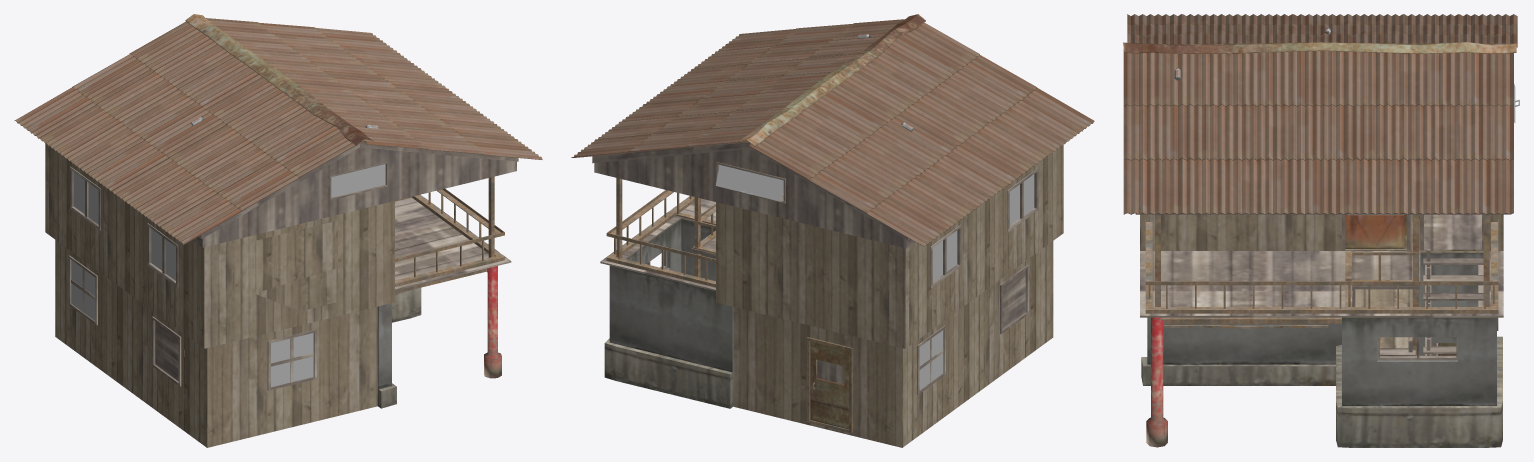
File: house.fbx
3 renders of one model, left to right at view 1: azimuth 30°, elevation 25°; view 2: azimuth 150°, elevation 25°; view 3: azimuth 270°, elevation 25°, orthographic. The views are drawn at different scales.
Visible parts, largest first — view 1: WoodWall, polySurface472, polySurface473, polySurface565, polySurface79, polySurface98, polySurface88, polySurface74, polySurface111, polySurface99, polySurface86, polySurface112 (+49 smaller); view 2: WoodWall, polySurface563, polySurface472, polySurface586, polySurface565, polySurface120, polySurface79, polySurface74, polySurface82, polySurface88, polySurface98, polySurface111 (+48 smaller); view 3: polySurface563, polySurface473, WoodWall, polySurface586, polySurface587, polySurface565, polySurface62, polySurface68, polySurface83, polySurface63, polySurface61, polySurface89 (+54 smaller).
Part boxes in pixels (box(x1,y1,x2,y2)): WoodWall: box(45, 143, 394, 447); polySurface472: box(192, 147, 516, 247); polySurface473: box(395, 194, 511, 290); polySurface565: box(185, 14, 373, 145); polySurface79: box(14, 87, 96, 138); polySurface98: box(160, 193, 245, 244); polySurface88: box(111, 158, 193, 209); polySurface74: box(72, 54, 154, 104); polySurface111: box(218, 160, 302, 210); polySurface99: box(87, 140, 169, 191); polySurface86: box(62, 122, 144, 173); polySurface112: box(135, 176, 217, 226); WoodWall: box(716, 144, 1063, 447); polySurface563: box(609, 219, 733, 406); polySurface472: box(594, 149, 915, 248); polySurface586: box(604, 338, 732, 408); polySurface565: box(738, 14, 925, 146); polySurface120: box(810, 341, 848, 429); polySurface79: box(864, 194, 949, 246); polySurface74: box(806, 160, 892, 213); polySurface82: box(749, 128, 835, 180); polySurface88: box(965, 123, 1046, 175); polySurface98: box(1013, 88, 1094, 139); polySurface111: box(956, 55, 1037, 105); polySurface563: box(1147, 253, 1496, 405); polySurface473: box(1140, 251, 1503, 317); WoodWall: box(1140, 214, 1503, 355); polySurface586: box(1338, 336, 1502, 447); polySurface587: box(1141, 345, 1341, 446); polySurface565: box(1123, 42, 1516, 53); polySurface62: box(1123, 159, 1181, 214); polySurface68: box(1123, 105, 1181, 160); polySurface83: box(1345, 159, 1403, 214); polySurface63: box(1347, 105, 1403, 160); polySurface61: box(1456, 159, 1513, 214); polySurface89: box(1290, 51, 1347, 106).
Size of the model in its own units: 1629 by 1228 by 1371.
